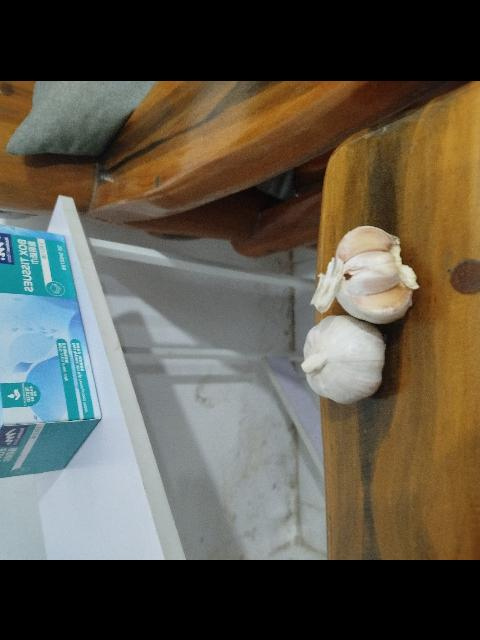garlic: (310, 224, 418, 324), (300, 314, 386, 402)
